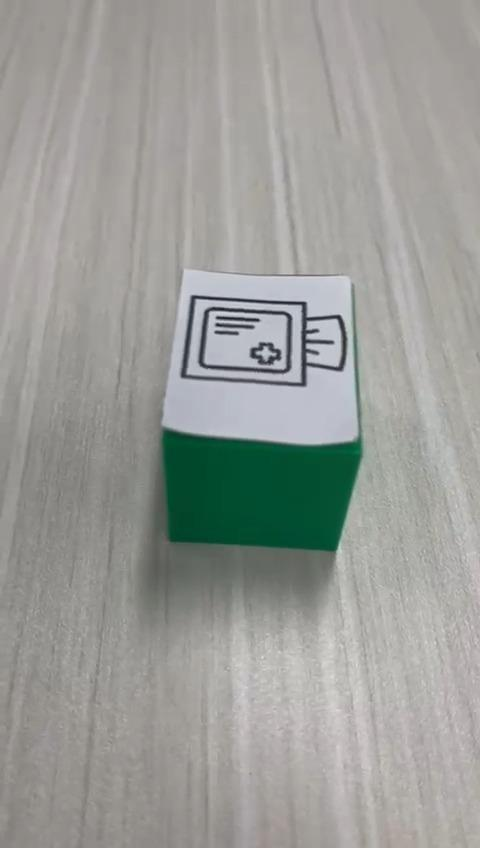Gauze: (159, 267, 364, 552)
